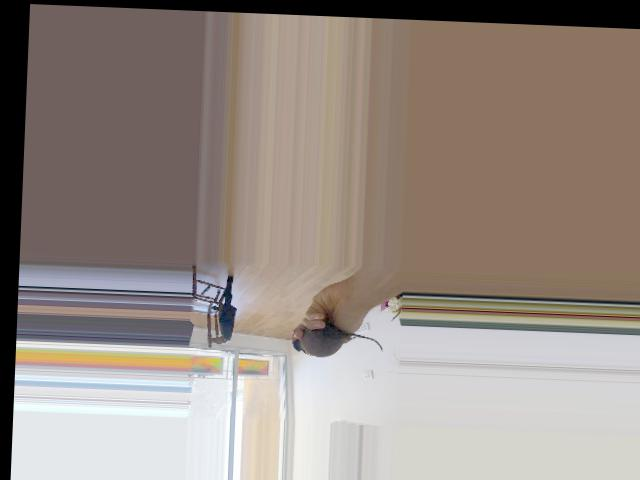beet: (290, 325, 382, 358)
